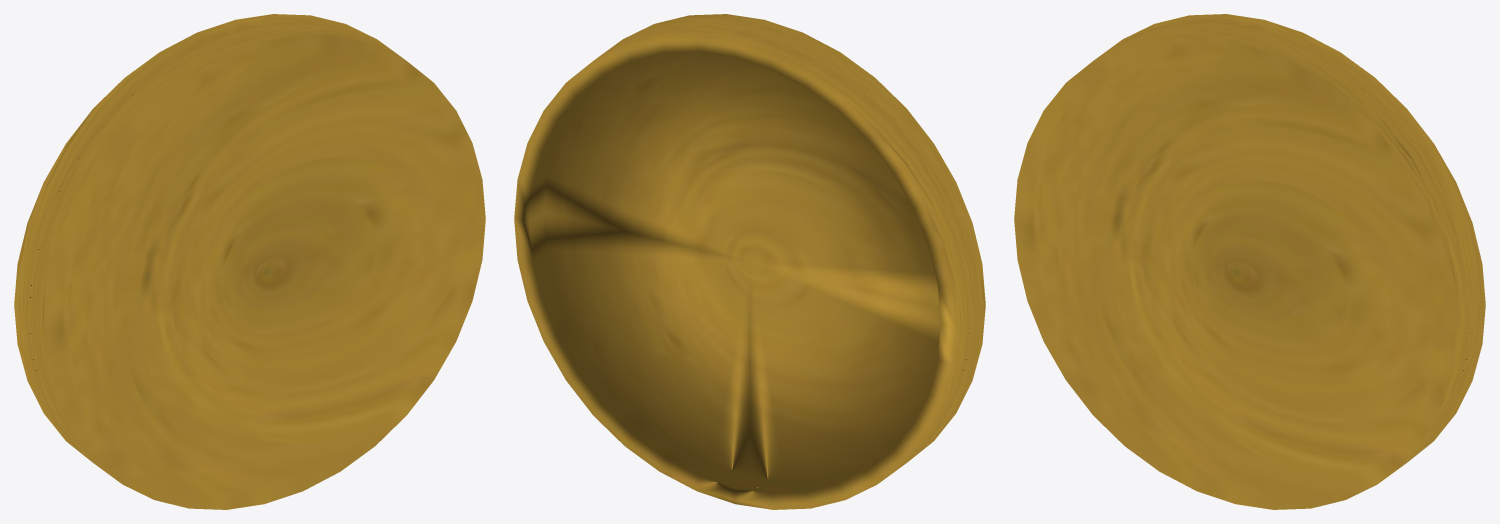
File: JingGai_RL.gltf
3 views of the same model, side by side, from view 1: azimuth 30°, elevation 25°; view 2: azimuth 150°, elevation 25°; view 3: azimuth 330°, elevation 25° (orthographic).
Bounding box in the file's own units: 8.6 × 8.6 × 1.
1 material, 1 textured.
